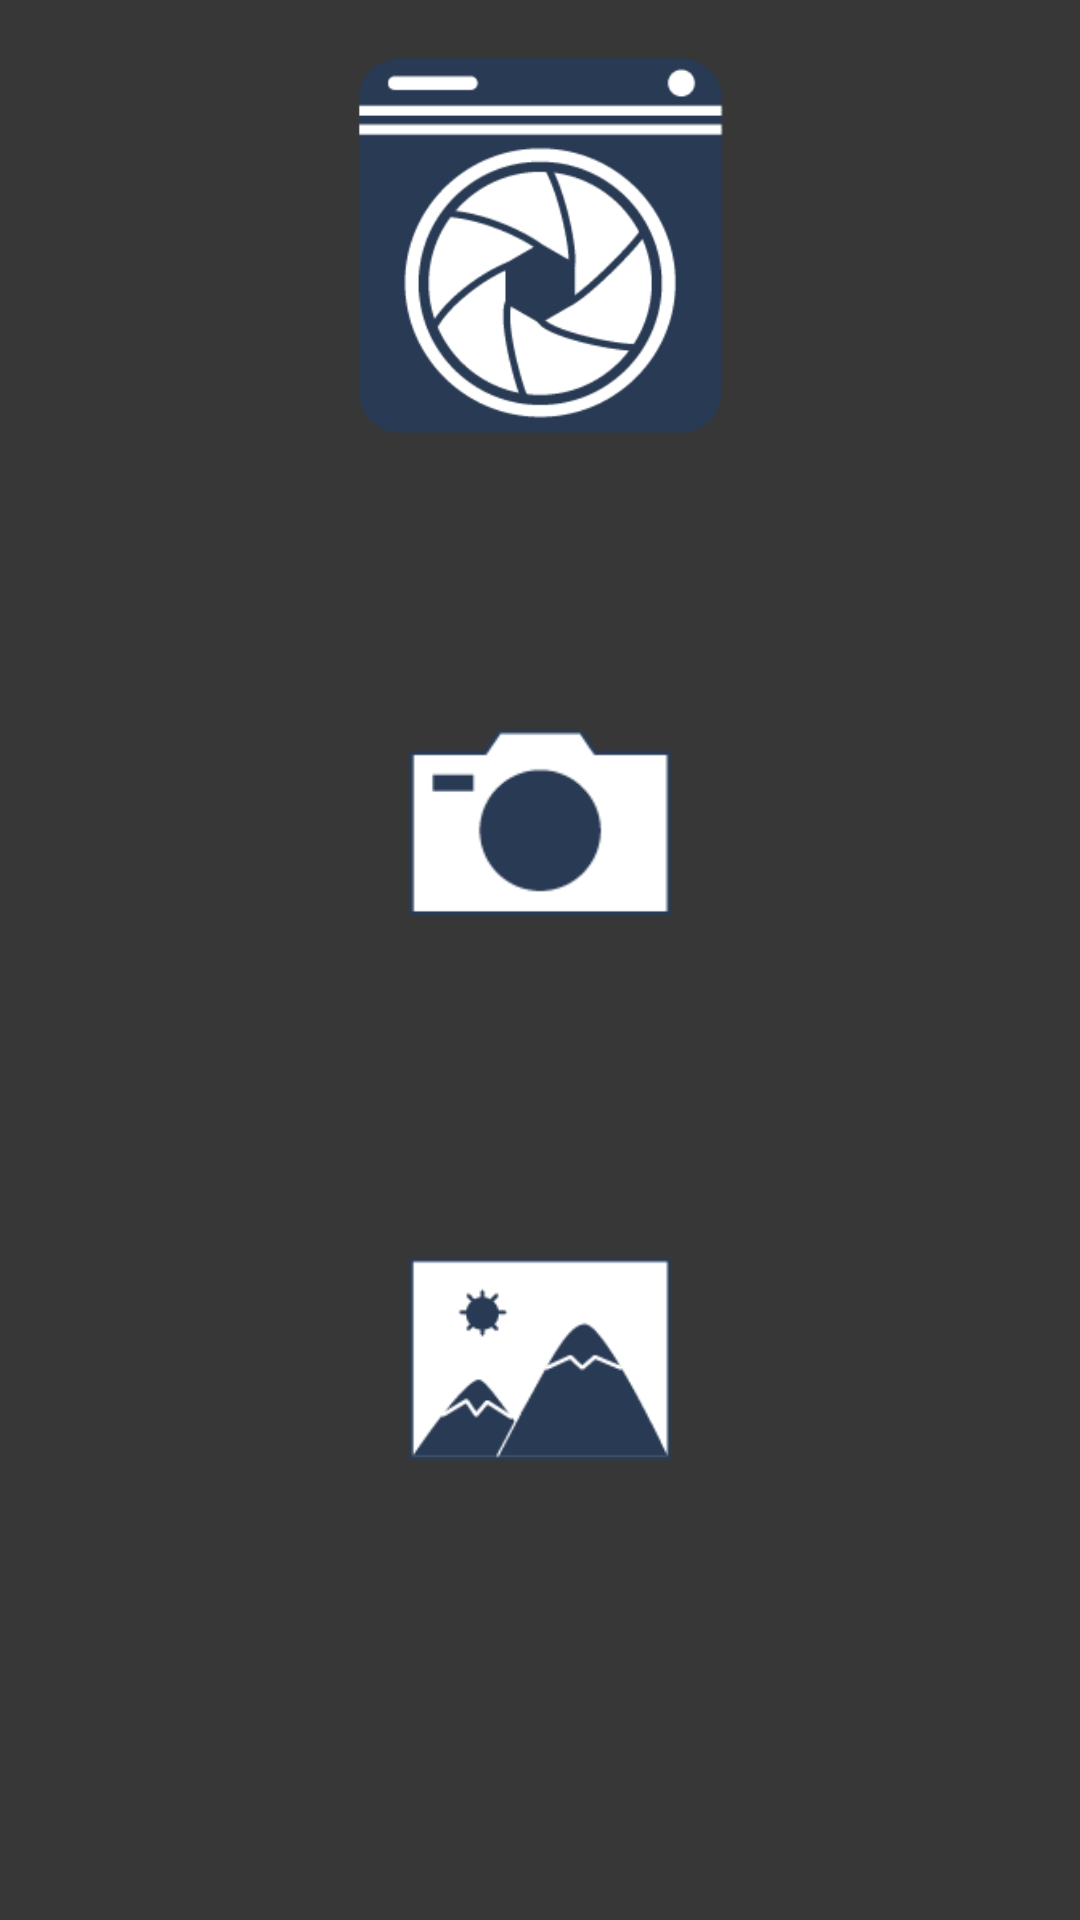

Icons on this 1080x1920 Android screen, each with the point to tap as (x=x, y=y):
appareil photo contour bleu: (x=540, y=823)
gallery bleu: (x=540, y=1358)
